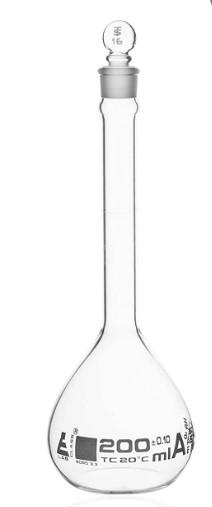Volumetric flask: (39, 13, 205, 495)
